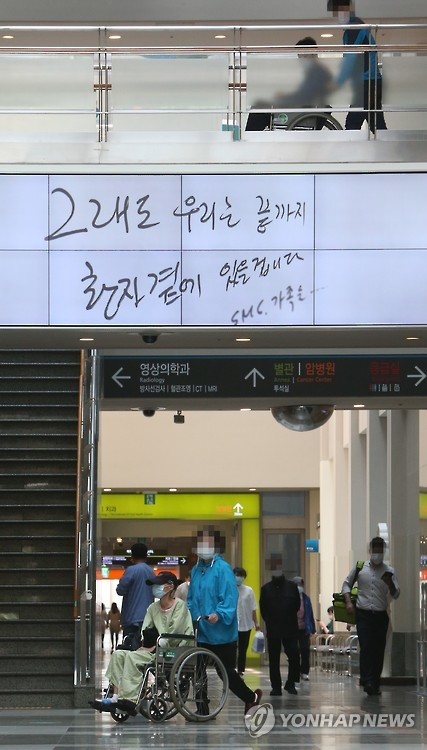wheelchair: (87, 570, 228, 722)
